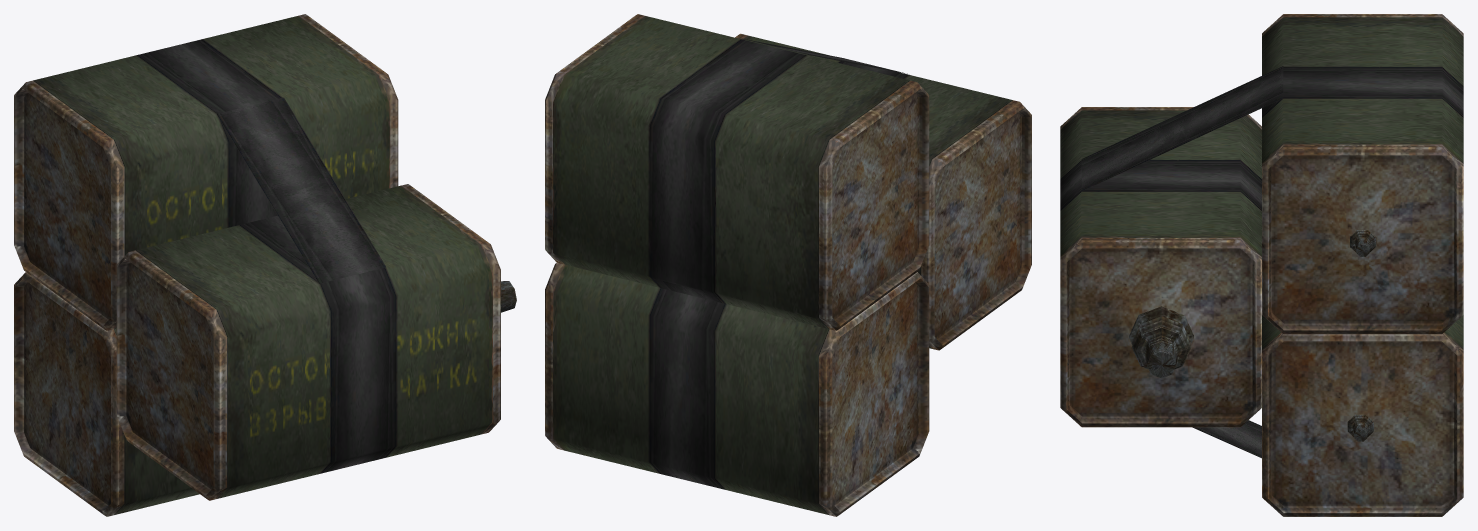
File: weapon_explosives_lod01.obj
The picture shows the model from 3 angles, left to right: view 1: azimuth 30°, elevation 25°; view 2: azimuth 150°, elevation 25°; view 3: azimuth 270°, elevation 25°; orthographic projection.
Visible parts, largest first — view 1: TomGroup_0; view 2: TomGroup_0; view 3: TomGroup_0.
Boxes of the visible parts, x1=… form: TomGroup_0: x1=14, y1=14, x2=516, y2=516; TomGroup_0: x1=545, y1=14, x2=1031, y2=516; TomGroup_0: x1=1060, y1=14, x2=1463, y2=516.
Size of the model in its own units: 17.64 by 18.4 by 18.2.
Materials: 1 (1 with a texture image).
